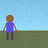person: (3, 15, 17, 40)
